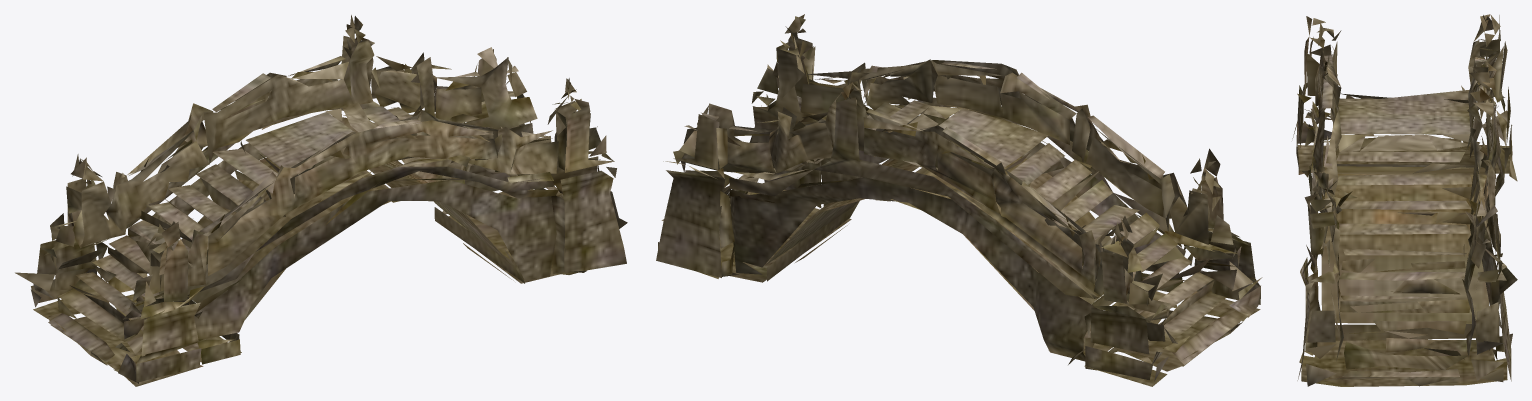
Rendered from ponte_lod2.glb.
The picture shows the model from 3 angles, left to right: view 1: azimuth 30°, elevation 25°; view 2: azimuth 150°, elevation 25°; view 3: azimuth 270°, elevation 25°; orthographic projection.
Parts seen in each view (by area): view 1: ponte; view 2: ponte; view 3: ponte.
Part boxes in pixels (x1,y1,x2,y2): ponte: (15, 15, 627, 386); ponte: (656, 14, 1262, 386); ponte: (1292, 14, 1517, 386).
Bounding box in the file's own units: 9.22 × 4.04 × 3.45.
1 material, 1 textured.
